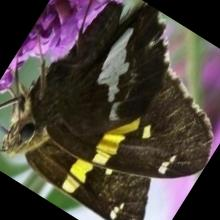butterfly: (1, 2, 211, 220)
